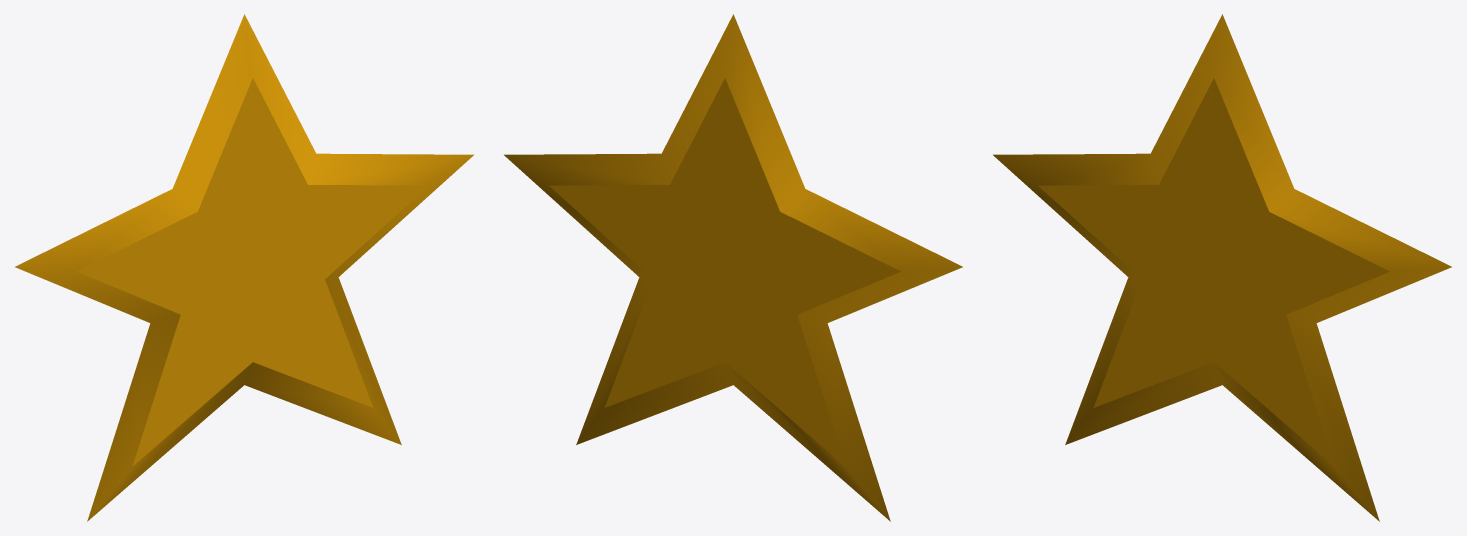
File: ESTRELLA 2.fbx
The picture shows the model from 3 angles, left to right: view 1: azimuth 30°, elevation 25°; view 2: azimuth 150°, elevation 25°; view 3: azimuth 330°, elevation 25°; orthographic projection.
Visible parts, largest first — view 1: Estrella coleccionable; view 2: Estrella coleccionable; view 3: Estrella coleccionable.
Boxes of the visible parts, x1,y1,x2,y2 form: Estrella coleccionable: (15,14,473,521); Estrella coleccionable: (504,14,962,521); Estrella coleccionable: (993,14,1451,521).
Size of the model in its own units: 577 by 563 by 36.57.
